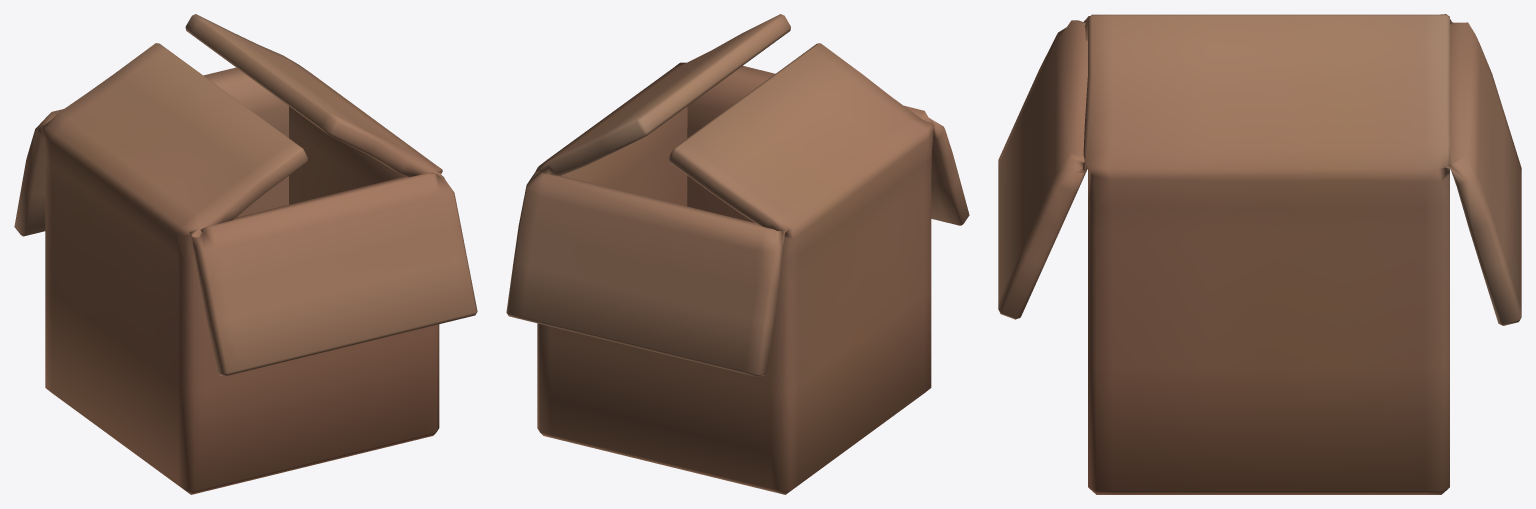
The model's file is HalfOpenedBox.fbx.
3 renders of one model, left to right at view 1: azimuth 30°, elevation 25°; view 2: azimuth 150°, elevation 25°; view 3: azimuth 270°, elevation 25°, orthographic. The views are drawn at different scales.
Visible parts, largest first — view 1: Cube.038; view 2: Cube.038; view 3: Cube.038.
Boxes of the visible parts, box(x1,y1,x2,y2) form: Cube.038: box(14, 14, 477, 494); Cube.038: box(506, 14, 969, 494); Cube.038: box(998, 14, 1521, 494).
Bounding box in the file's own units: 2.04 × 2.57 × 2.89.
